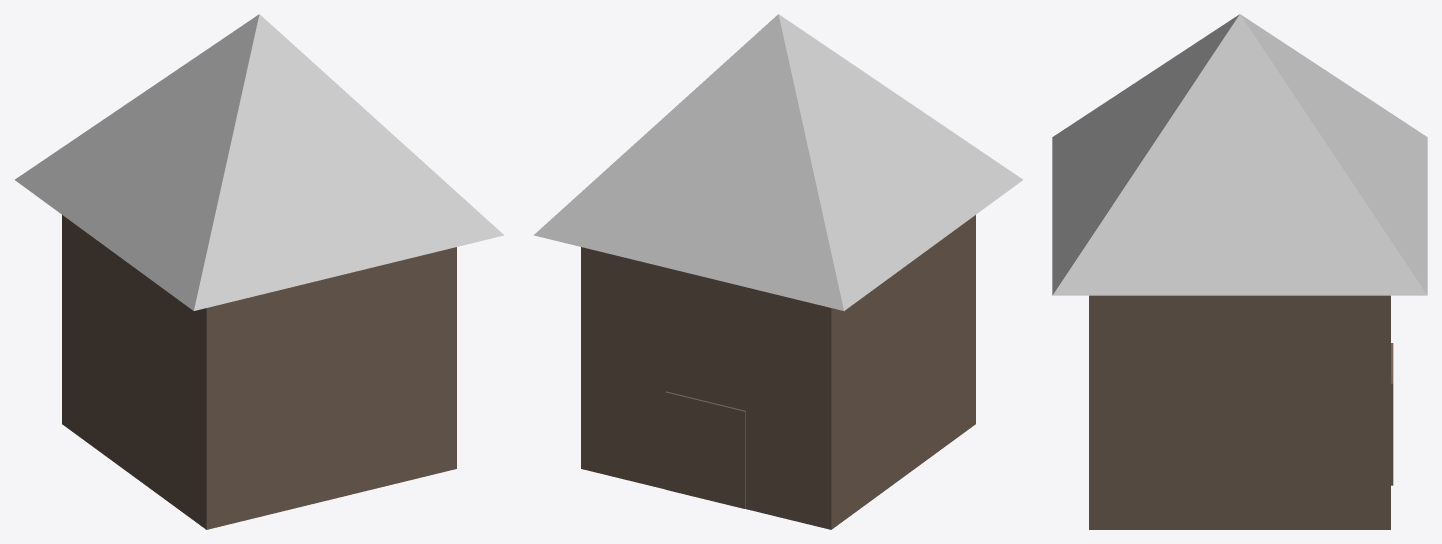
Rendered from house.obj.
3 views of the same model, side by side, from view 1: azimuth 30°, elevation 25°; view 2: azimuth 150°, elevation 25°; view 3: azimuth 270°, elevation 25° (orthographic). The views are drawn at different scales.
Parts seen in each view (by area): view 1: Cube; view 2: Cube; view 3: Cube.
Boxes of the visible parts, left/top/right/bottom form: Cube: left=15, top=14, right=503, bottom=529; Cube: left=534, top=14, right=1022, bottom=529; Cube: left=1052, top=14, right=1427, bottom=529.
Bounding box in the file's own units: 2.48 × 3.3 × 2.48.
